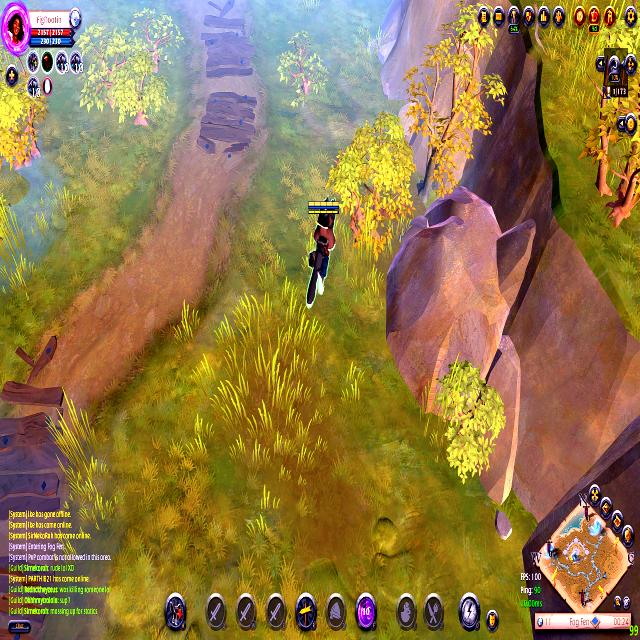red: (302, 181, 342, 319)
